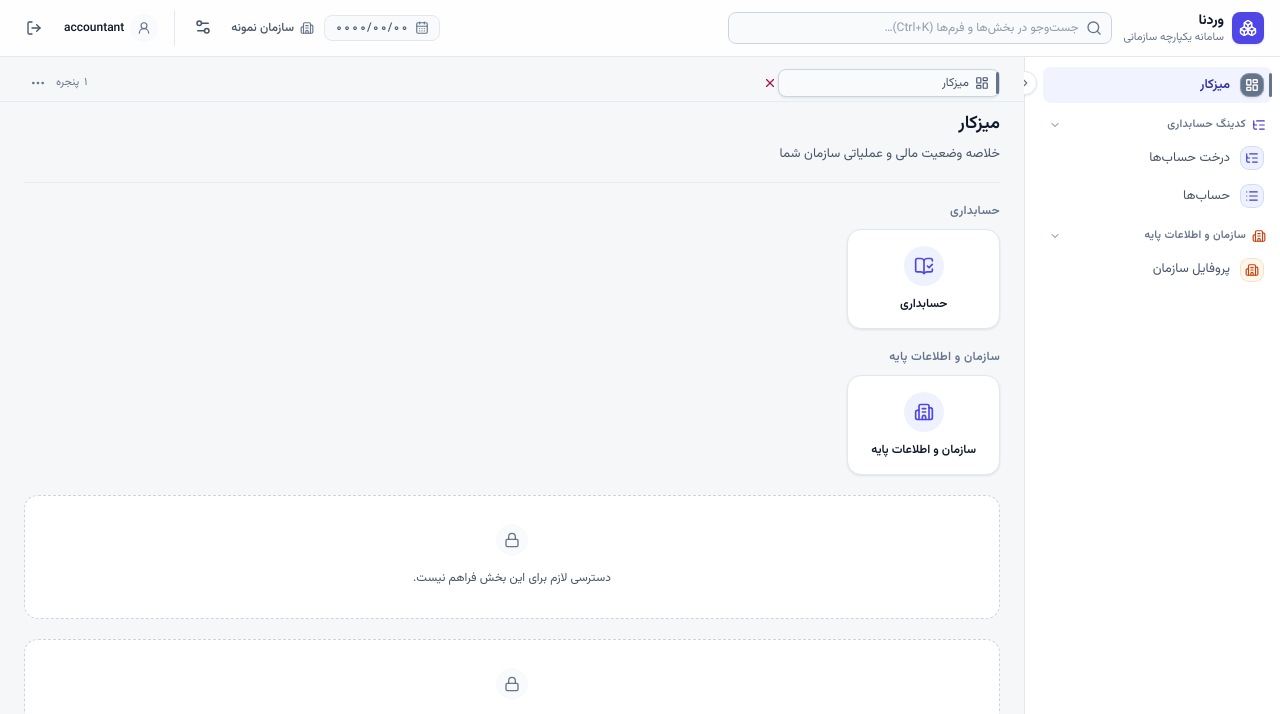
Scenario: Header RTL order, Appearance Settings, Collapsible Sidebar & Global Search › focuses Global Search on Ctrl+K, filters strictly by permitted routes, and navigates on Enter
Expected: the heading "میزکار" is shown, [958,110,1000,138]
Type keys "{Control>}k{/Control}"
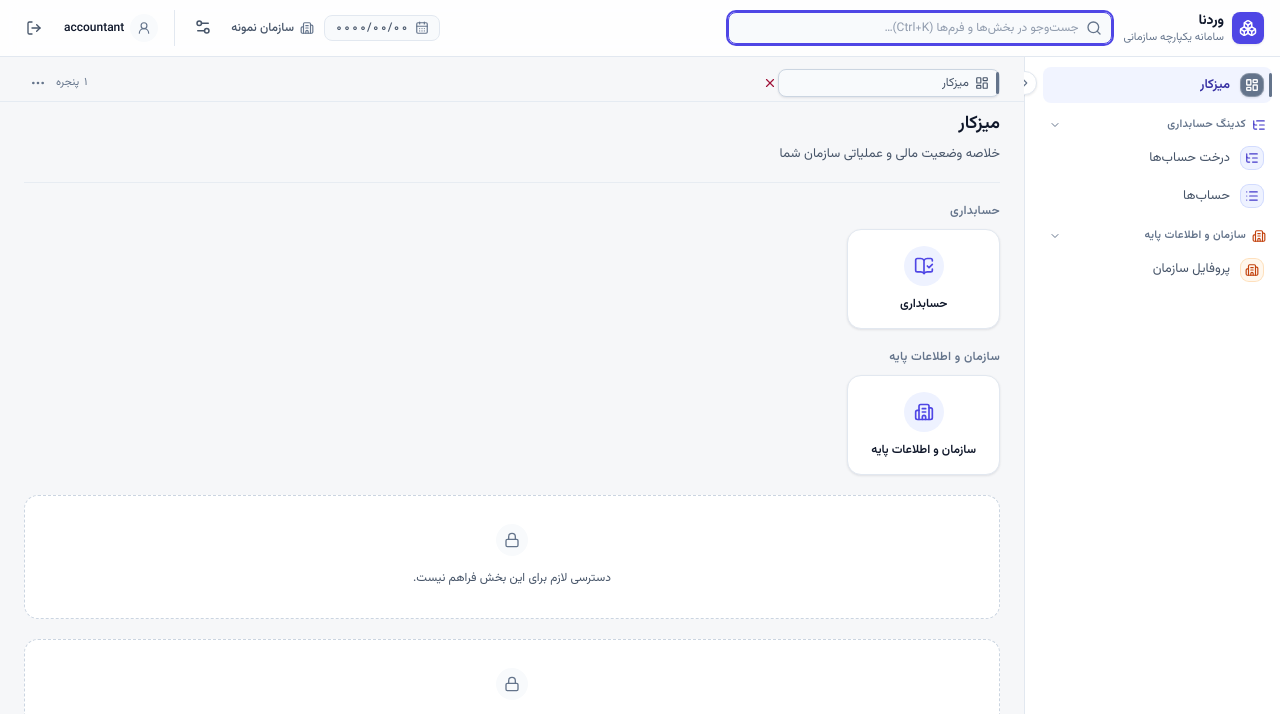
Type "تراز" into the field with test id "global-search-input". click: (920, 28)
box: [728,12,1112,44]
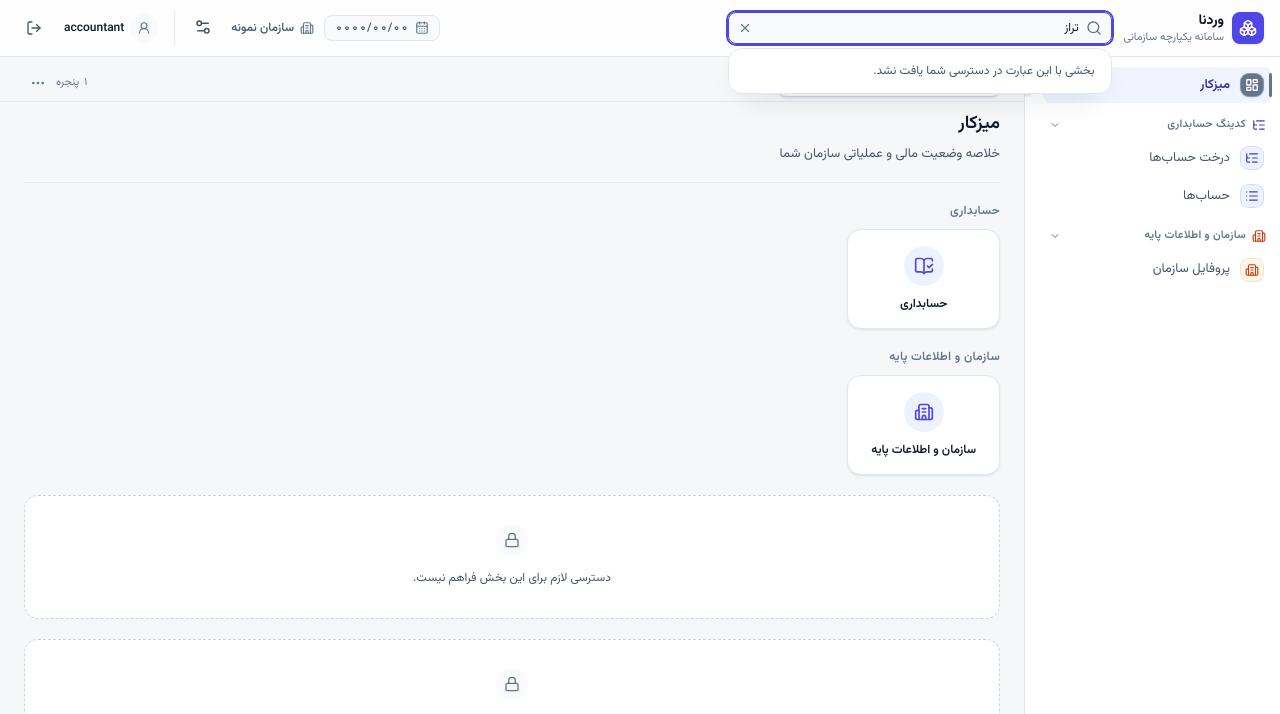
Result: the element with test id "global-search-results" reads "بخشی با این عبارت در دسترسی شما یافت نشد." at [873,62,1095,80]
Replace the text in the field with test id "global-search-input" with "درخت". click: (920, 28)
box: [728,12,1112,44]
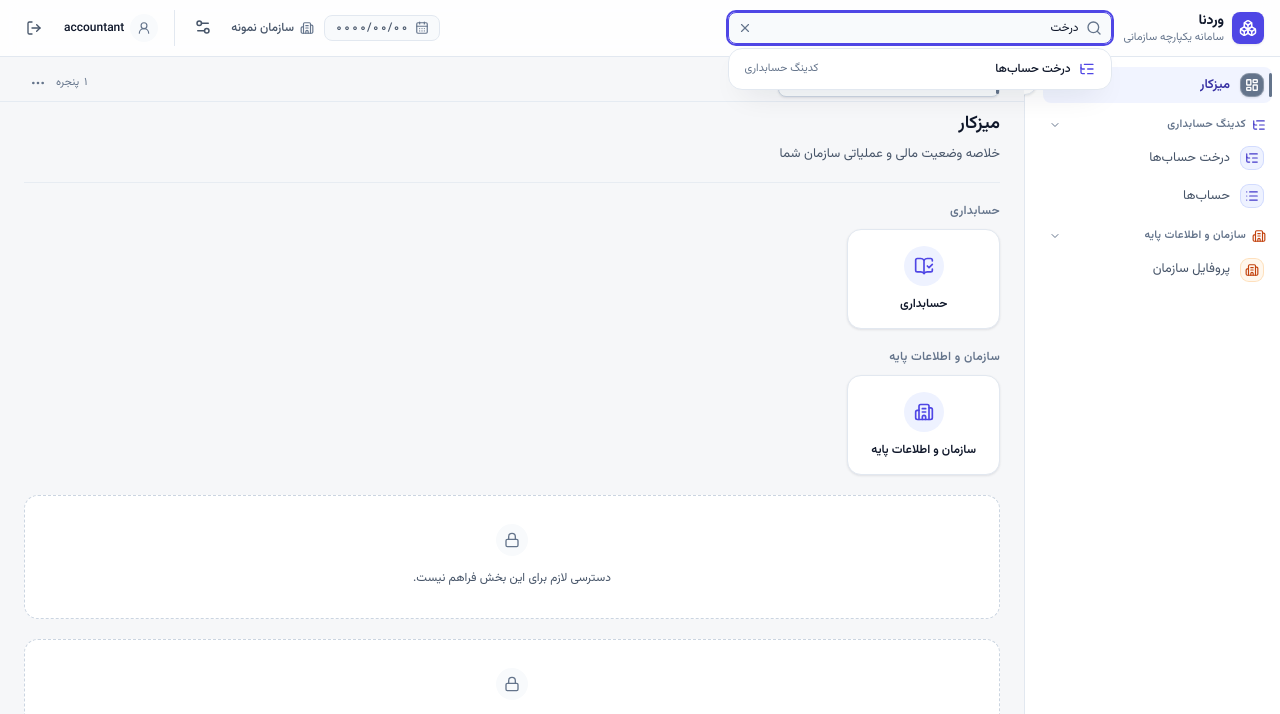
Result: the element with test id "global-search-results" shows "درخت حساب‌ها" at [733,53,1107,85]
Press Enter
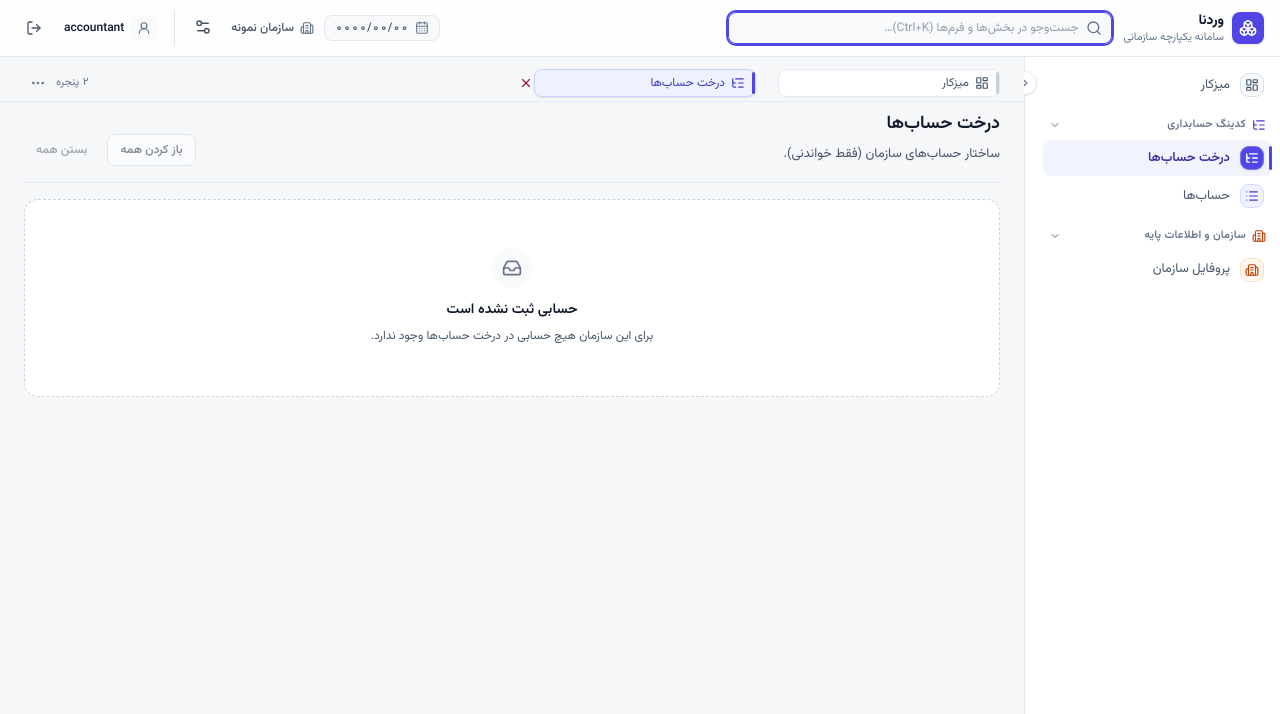
Result: the heading "درخت حساب‌ها" is shown at [886,110,1000,138]
